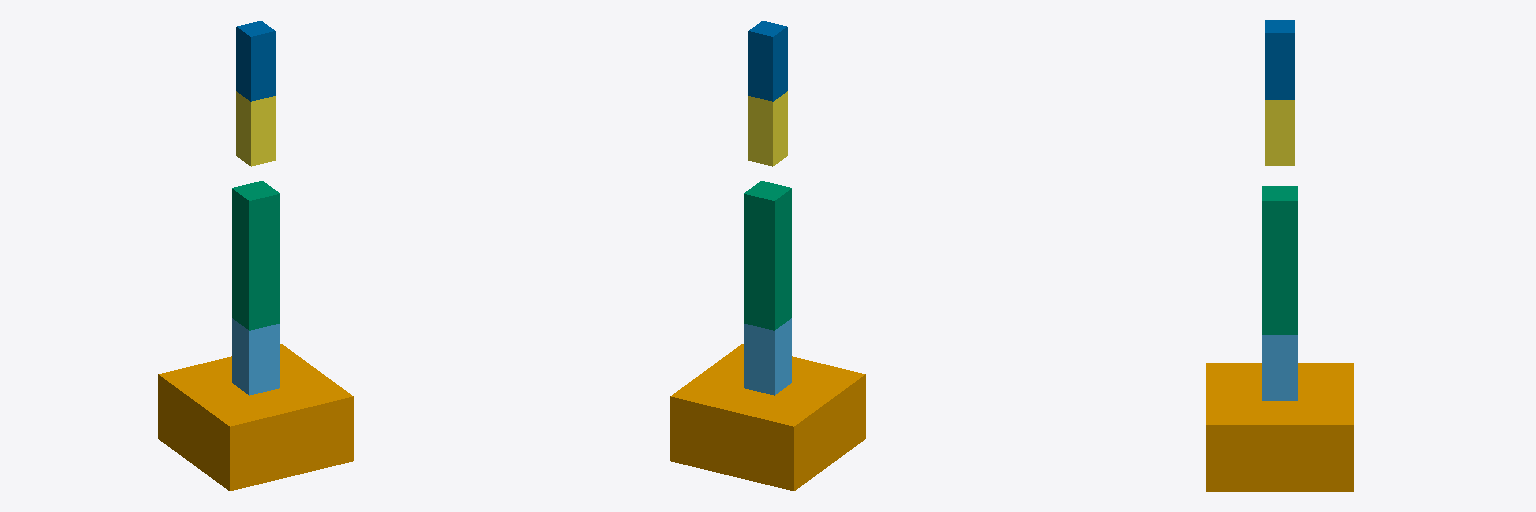
robot.urdf — c_revolute_no_limit:
<?xml version="1.0"?>
<!--
  Fixture (c): a revolute joint with no <limit> element.

  Written for urdf-usd-bridge. Not derived from any file in references/.

  Purpose: URDF requires <limit> on revolute joints, but real files omit it.
  urdf-usd-converter falls back to 0.0 for both bounds:

      limit_lower = joint.limit.get_with_default("lower") if joint.limit is not None else 0.0
      limit_upper = joint.limit.get_with_default("upper") if joint.limit is not None else 0.0

  so the joint is authored with physics:lowerLimit == physics:upperLimit == 0,
  i.e. welded shut, with no diagnostic. 'partial_limit_joint' checks the same
  fallback when <limit> exists but omits lower/upper.

  'continuous_joint' is the negative control: a continuous joint legitimately
  has no bounds and should be authored unlimited, not locked.
  'limited_joint' is the ordinary case.
-->
<robot name="c_revolute_no_limit">

  <link name="base_link">
    <inertial>
      <origin xyz="0 0 0" rpy="0 0 0"/>
      <mass value="5.0"/>
      <inertia ixx="0.05" ixy="0" ixz="0" iyy="0.05" iyz="0" izz="0.05"/>
    </inertial>
    <visual>
      <geometry><box size="0.2 0.2 0.1"/></geometry>
    </visual>
    <collision>
      <geometry><box size="0.2 0.2 0.1"/></geometry>
    </collision>
  </link>

  <link name="no_limit_link">
    <inertial>
      <origin xyz="0 0 0.1" rpy="0 0 0"/>
      <mass value="1.0"/>
      <inertia ixx="0.005" ixy="0" ixz="0" iyy="0.005" iyz="0" izz="0.001"/>
    </inertial>
    <visual>
      <geometry><box size="0.05 0.05 0.2"/></geometry>
    </visual>
    <collision>
      <geometry><box size="0.05 0.05 0.2"/></geometry>
    </collision>
  </link>

  <link name="partial_limit_link">
    <inertial>
      <origin xyz="0 0 0.1" rpy="0 0 0"/>
      <mass value="1.0"/>
      <inertia ixx="0.005" ixy="0" ixz="0" iyy="0.005" iyz="0" izz="0.001"/>
    </inertial>
    <visual>
      <geometry><box size="0.05 0.05 0.2"/></geometry>
    </visual>
    <collision>
      <geometry><box size="0.05 0.05 0.2"/></geometry>
    </collision>
  </link>

  <link name="continuous_link">
    <inertial>
      <origin xyz="0 0 0.05" rpy="0 0 0"/>
      <mass value="0.5"/>
      <inertia ixx="0.001" ixy="0" ixz="0" iyy="0.001" iyz="0" izz="0.0008"/>
    </inertial>
    <visual>
      <geometry><box size="0.04 0.04 0.1"/></geometry>
    </visual>
    <collision>
      <geometry><box size="0.04 0.04 0.1"/></geometry>
    </collision>
  </link>

  <link name="limited_link">
    <inertial>
      <origin xyz="0 0 0.05" rpy="0 0 0"/>
      <mass value="0.5"/>
      <inertia ixx="0.001" ixy="0" ixz="0" iyy="0.001" iyz="0" izz="0.0008"/>
    </inertial>
    <visual>
      <geometry><box size="0.04 0.04 0.1"/></geometry>
    </visual>
    <collision>
      <geometry><box size="0.04 0.04 0.1"/></geometry>
    </collision>
  </link>

  <!-- No <limit> at all. -->
  <joint name="no_limit_joint" type="revolute">
    <parent link="base_link"/>
    <child link="no_limit_link"/>
    <origin xyz="0 0 0.05" rpy="0 0 0"/>
    <axis xyz="0 1 0"/>
  </joint>

  <!-- <limit> present, but lower/upper omitted. -->
  <joint name="partial_limit_joint" type="revolute">
    <parent link="no_limit_link"/>
    <child link="partial_limit_link"/>
    <origin xyz="0 0 0.2" rpy="0 0 0"/>
    <axis xyz="0 1 0"/>
    <limit effort="30.0" velocity="1.5"/>
  </joint>

  <!-- Negative control: continuous joints are unbounded by definition. -->
  <joint name="continuous_joint" type="continuous">
    <parent link="partial_limit_link"/>
    <child link="continuous_link"/>
    <origin xyz="0 0 0.2" rpy="0 0 0"/>
    <axis xyz="0 0 1"/>
    <limit effort="10.0" velocity="3.0"/>
  </joint>

  <!-- Negative control: an ordinary bounded revolute joint. -->
  <joint name="limited_joint" type="revolute">
    <parent link="continuous_link"/>
    <child link="limited_link"/>
    <origin xyz="0 0 0.1" rpy="0 0 0"/>
    <axis xyz="1 0 0"/>
    <limit lower="-0.785" upper="0.785" effort="10.0" velocity="1.0"/>
  </joint>

</robot>

--- Facts derived from the render (not from the file) ---
The picture shows the robot from 3 angles, left to right: view 1: azimuth 30°, elevation 25°; view 2: azimuth 150°, elevation 25°; view 3: azimuth 270°, elevation 25°; orthographic projection.
Robot: c_revolute_no_limit — 5 links, 4 joints (3 revolute, 1 continuous); root link base_link; default pose: all joints at 0.
Visible links, largest first — view 1: base_link, partial_limit_link, no_limit_link, limited_link, continuous_link; view 2: base_link, partial_limit_link, no_limit_link, limited_link, continuous_link; view 3: base_link, partial_limit_link, limited_link, no_limit_link, continuous_link.
Link boxes in pixels (x1,y1,x2,y2): base_link: [158, 344, 353, 490]; partial_limit_link: [232, 181, 279, 330]; no_limit_link: [232, 318, 279, 395]; limited_link: [236, 21, 275, 101]; continuous_link: [236, 91, 275, 166]; base_link: [670, 344, 865, 490]; partial_limit_link: [744, 181, 791, 330]; no_limit_link: [744, 318, 791, 395]; limited_link: [748, 21, 787, 101]; continuous_link: [748, 91, 787, 166]; base_link: [1206, 363, 1353, 491]; partial_limit_link: [1262, 186, 1297, 334]; limited_link: [1265, 20, 1294, 99]; no_limit_link: [1262, 335, 1297, 400]; continuous_link: [1265, 100, 1294, 165].
Size in the robot's own frame: 0.2 by 0.2 by 0.65 metres.
Geometry: primitives only (box / cylinder / sphere), no mesh files.
